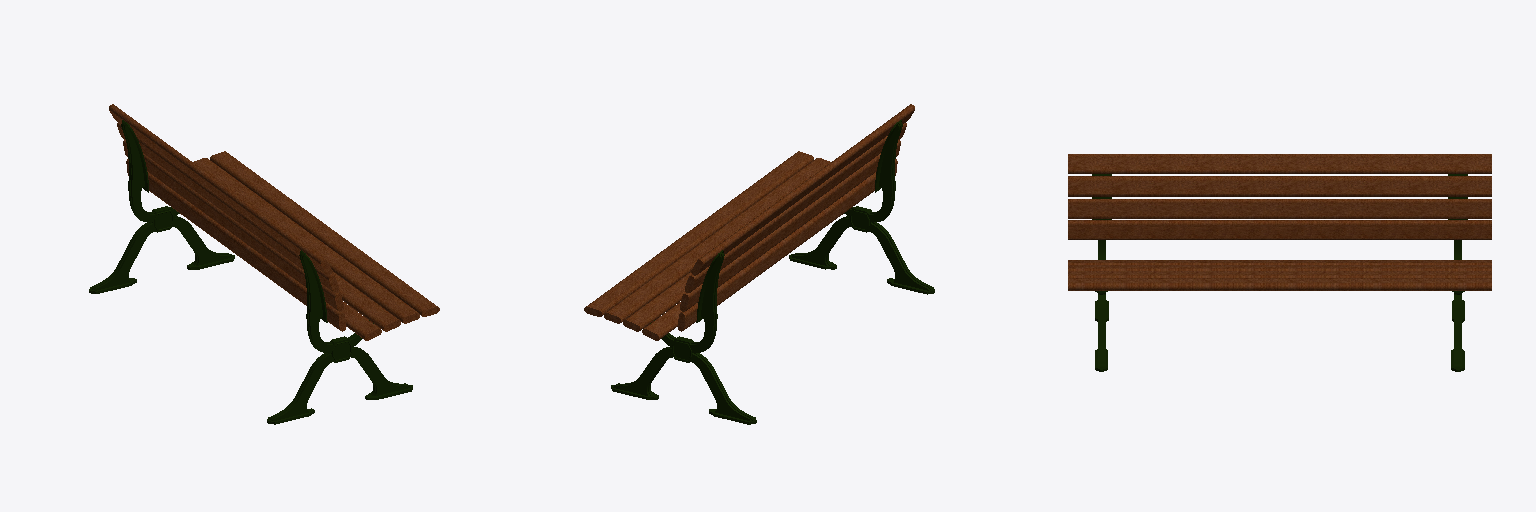
The picture shows the model from 3 angles: view 1: azimuth 30°, elevation 25°; view 2: azimuth 150°, elevation 25°; view 3: azimuth 270°, elevation 25°; orthographic projection.
Parts seen in each view (by area): view 1: mesh25_mesh25-geometry, mesh16_mesh16-geometry, mesh35_mesh35-geometry, mesh13_mesh13-geometry, mesh1_mesh1-geometry, mesh4_mesh4-geometry, mesh22_mesh22-geometry, mesh10_mesh10-geometry, mesh7_mesh7-geometry, mesh19_mesh19-geometry; view 2: mesh35_mesh35-geometry, mesh16_mesh16-geometry, mesh25_mesh25-geometry, mesh13_mesh13-geometry, mesh1_mesh1-geometry, mesh4_mesh4-geometry, mesh22_mesh22-geometry, mesh10_mesh10-geometry, mesh7_mesh7-geometry, mesh19_mesh19-geometry; view 3: mesh10_mesh10-geometry, mesh22_mesh22-geometry, mesh4_mesh4-geometry, mesh1_mesh1-geometry, mesh16_mesh16-geometry, mesh13_mesh13-geometry, mesh7_mesh7-geometry, mesh19_mesh19-geometry, mesh35_mesh35-geometry, mesh25_mesh25-geometry.
Part boxes in pixels (x1,y1,x2,y2): mesh25_mesh25-geometry: (267,250,412,424); mesh16_mesh16-geometry: (210,151,439,316); mesh35_mesh35-geometry: (89,120,234,293); mesh13_mesh13-geometry: (193,158,419,323); mesh1_mesh1-geometry: (126,159,345,331); mesh4_mesh4-geometry: (109,104,332,275); mesh22_mesh22-geometry: (123,140,343,311); mesh10_mesh10-geometry: (117,123,338,292); mesh7_mesh7-geometry: (332,272,400,331); mesh19_mesh19-geometry: (342,302,381,340); mesh35_mesh35-geometry: (611,250,756,424); mesh16_mesh16-geometry: (584,151,813,316); mesh25_mesh25-geometry: (789,120,934,294); mesh13_mesh13-geometry: (604,158,830,323); mesh1_mesh1-geometry: (678,159,897,331); mesh4_mesh4-geometry: (691,104,914,275); mesh22_mesh22-geometry: (680,140,900,311); mesh10_mesh10-geometry: (685,123,906,292); mesh7_mesh7-geometry: (623,272,691,331); mesh19_mesh19-geometry: (642,302,681,340); mesh10_mesh10-geometry: (1068,176,1491,196); mesh22_mesh22-geometry: (1068,199,1491,218); mesh4_mesh4-geometry: (1068,154,1491,173); mesh1_mesh1-geometry: (1068,220,1491,239); mesh16_mesh16-geometry: (1068,278,1491,290); mesh13_mesh13-geometry: (1068,271,1491,277); mesh7_mesh7-geometry: (1068,265,1491,270); mesh19_mesh19-geometry: (1068,260,1491,264); mesh35_mesh35-geometry: (1448,174,1467,371); mesh25_mesh25-geometry: (1092,174,1111,371).
Size of the model in its own units: 0.3612 by 0.3703 by 0.8558.
2 materials, 1 textured.